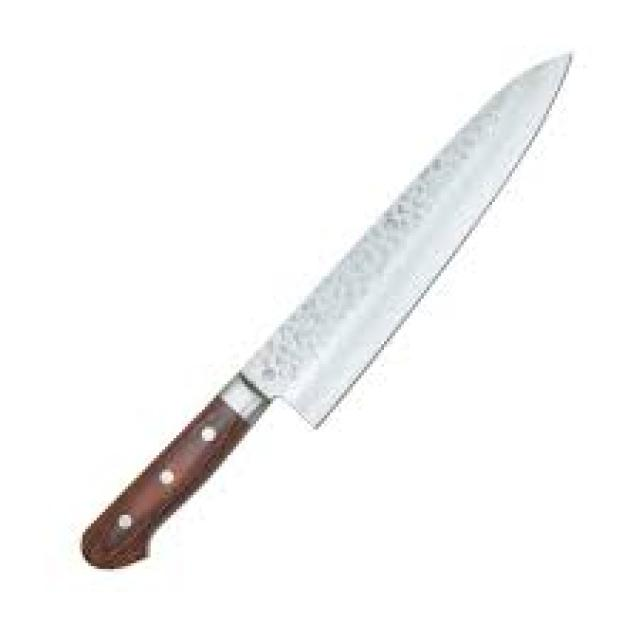knives: (74, 42, 577, 574)
